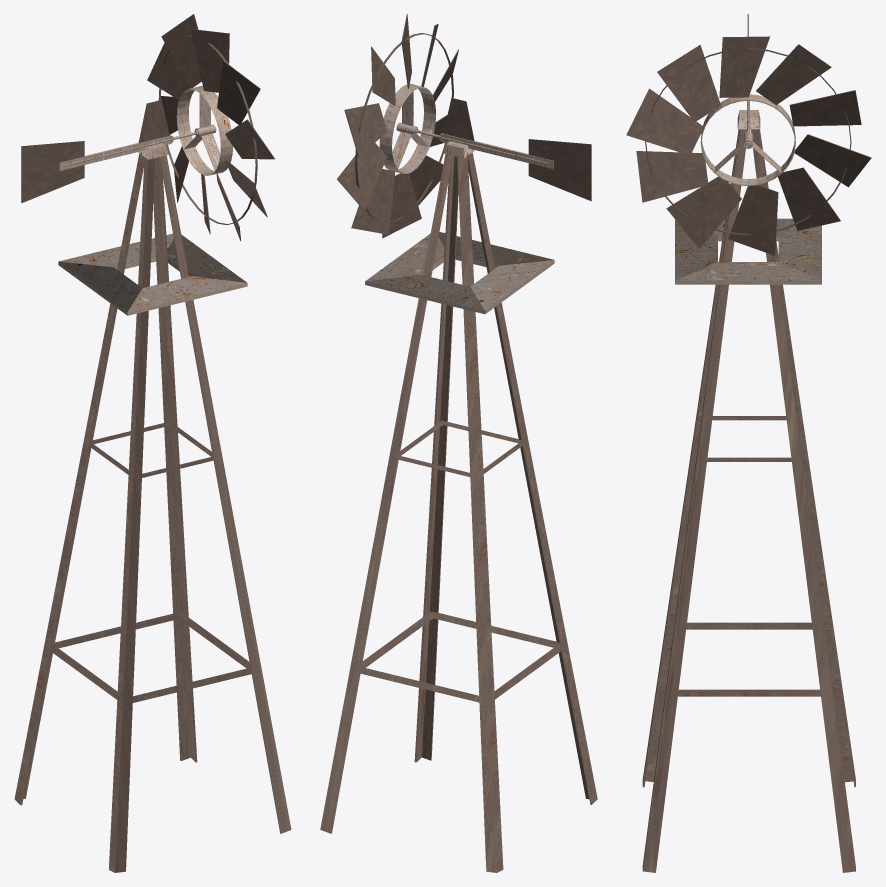
The model's file is molino.obj.
The picture shows the model from 3 angles, left to right: view 1: azimuth 30°, elevation 25°; view 2: azimuth 150°, elevation 25°; view 3: azimuth 270°, elevation 25°; orthographic projection. The views are drawn at different scales.
Parts seen in each view (by area): view 1: Plane.009, Plane, Cube.001, Plane.002, Plane.001, Plane.003, Circle.002; view 2: Plane.009, Plane, Cube.001, Plane.002, Plane.001, Plane.003, Circle.002; view 3: Plane.009, Plane, Cube.001, Plane.002, Circle.002.
Boxes of the visible parts, box(x1,y1,x2,y2) form: Plane.009: box(14, 153, 291, 872); Plane: box(147, 14, 274, 240); Cube.001: box(58, 233, 247, 315); Plane.002: box(59, 85, 232, 175); Plane.001: box(21, 141, 84, 202); Plane.003: box(138, 100, 169, 143); Circle.002: box(159, 35, 257, 224); Plane.009: box(320, 152, 597, 872); Plane: box(337, 14, 458, 238); Cube.001: box(365, 232, 554, 314); Plane.002: box(379, 83, 553, 173); Plane.001: box(528, 139, 591, 201); Plane.003: box(443, 98, 474, 141); Circle.002: box(355, 33, 453, 222); Plane.009: box(642, 129, 855, 872); Plane: box(626, 36, 871, 255); Cube.001: box(675, 218, 821, 284); Plane.002: box(700, 94, 795, 186); Circle.002: box(645, 48, 851, 235).
Bounding box in the file's own units: 9.95 × 33.5 × 9.05.
Materials: 2 (2 with a texture image).
